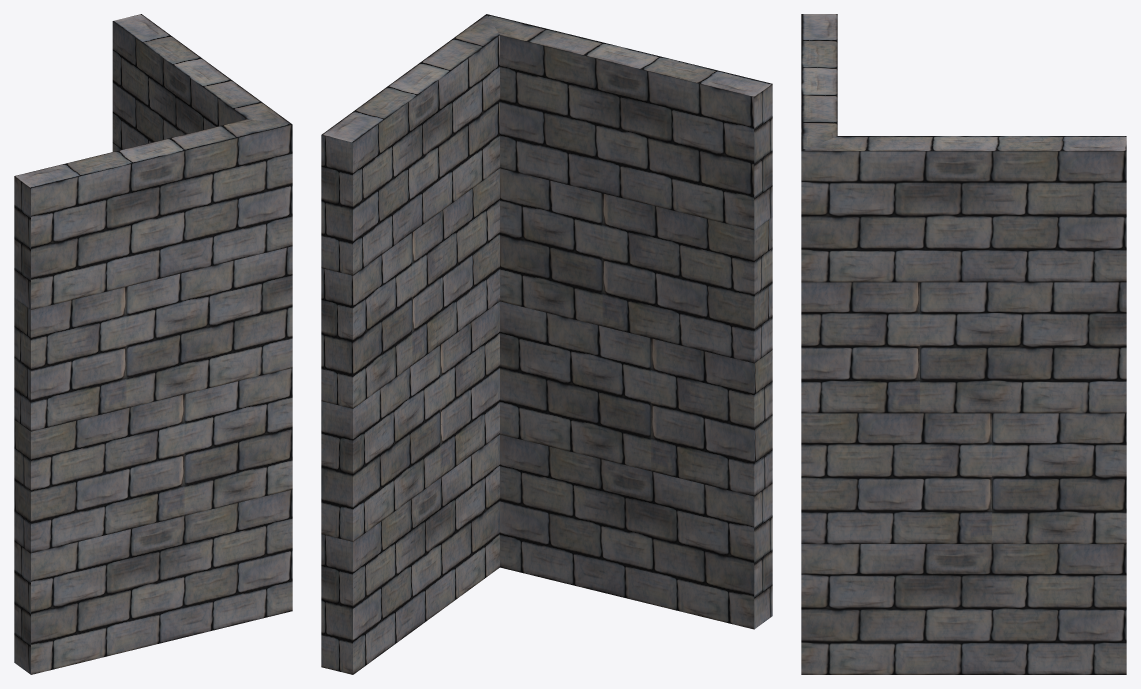
Rendered from wall_corner_01.fbx.
3 renders of one model, left to right at view 1: azimuth 30°, elevation 25°; view 2: azimuth 150°, elevation 25°; view 3: azimuth 270°, elevation 25°, orthographic. The views are drawn at different scales.
Parts seen in each view (by area): view 1: wall_corner_01; view 2: wall_corner_01; view 3: wall_corner_01.
Part boxes in pixels (box(x1,y1,x2,y2)): wall_corner_01: box(14, 14, 292, 674); wall_corner_01: box(321, 14, 772, 674); wall_corner_01: box(801, 14, 1126, 674).
Size of the model in its own units: 900 by 1600 by 900.
